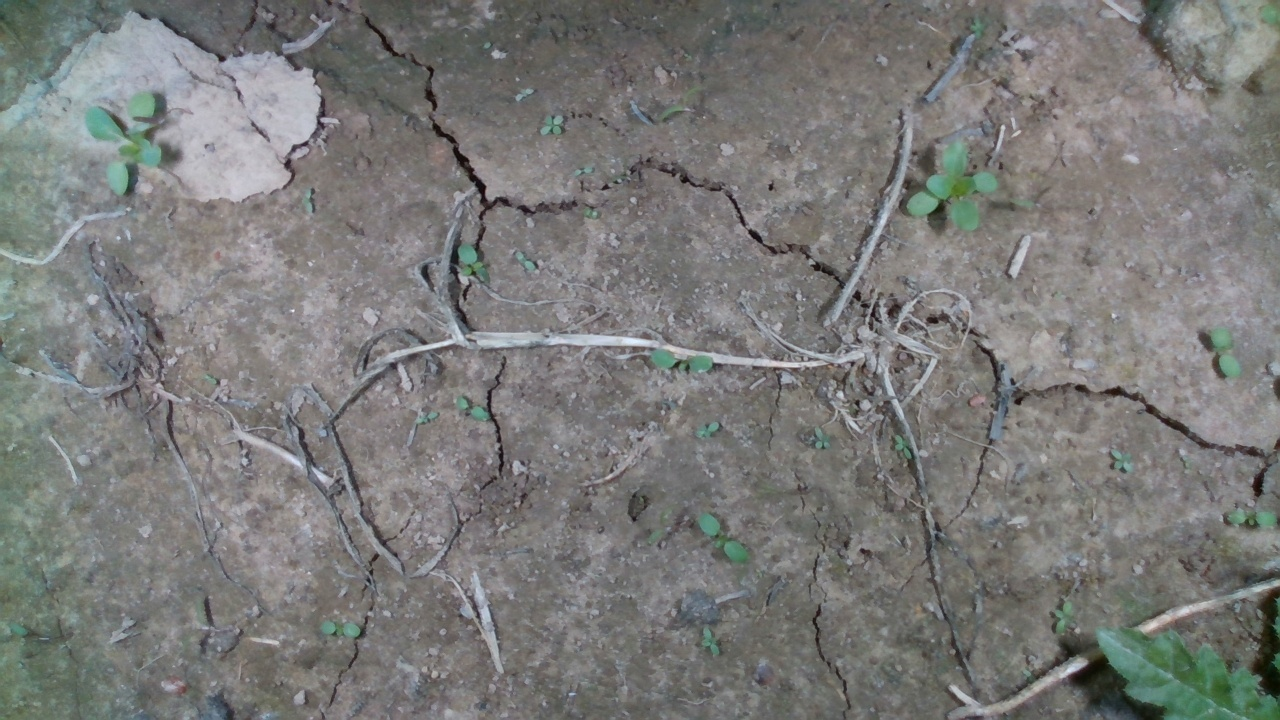weed: (691, 511, 758, 574), (447, 240, 507, 300), (1204, 321, 1247, 390), (450, 389, 498, 437), (1231, 496, 1271, 548), (1107, 440, 1150, 481), (648, 349, 714, 373), (318, 614, 368, 645), (696, 621, 727, 668), (1054, 598, 1078, 645), (809, 420, 829, 467), (694, 413, 721, 446), (540, 110, 562, 141), (571, 159, 596, 186)
